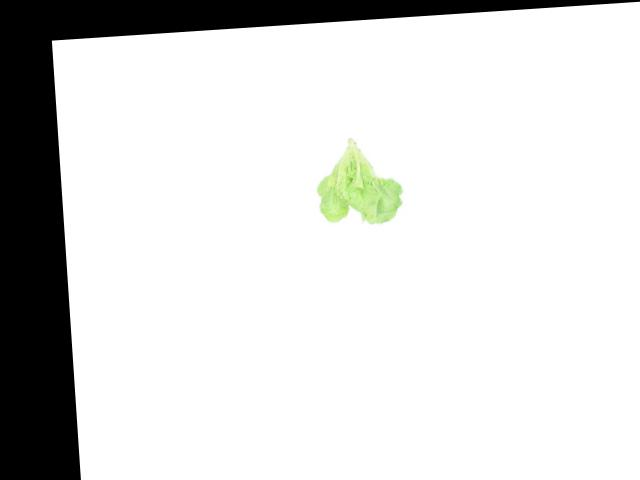lettuce: (310, 132, 409, 233)
